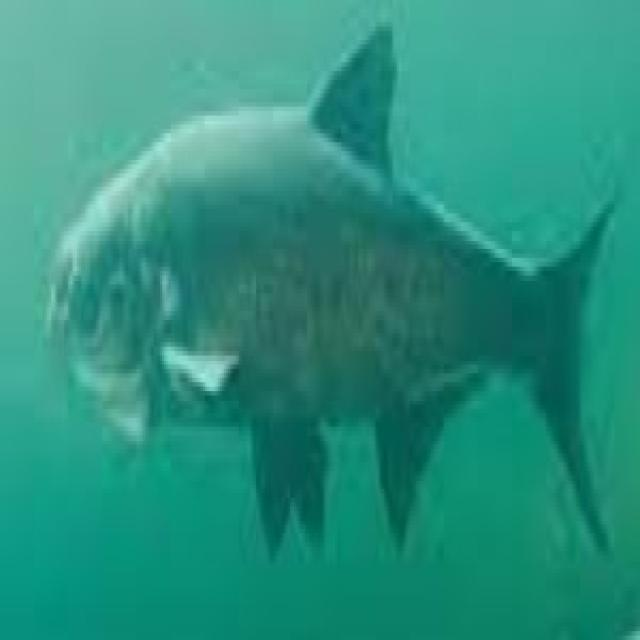Big-Head-Carp: (9, 2, 631, 616)
